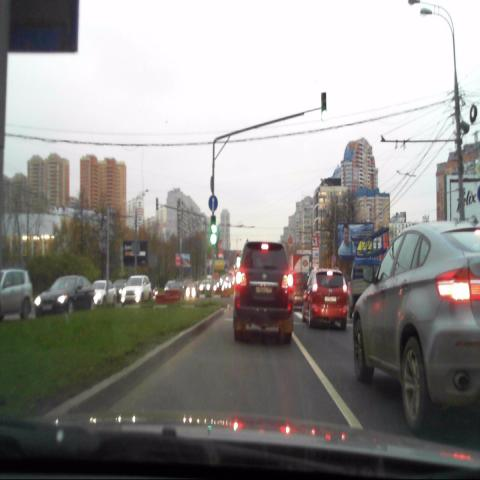4_1_1: (208, 194, 218, 210)
